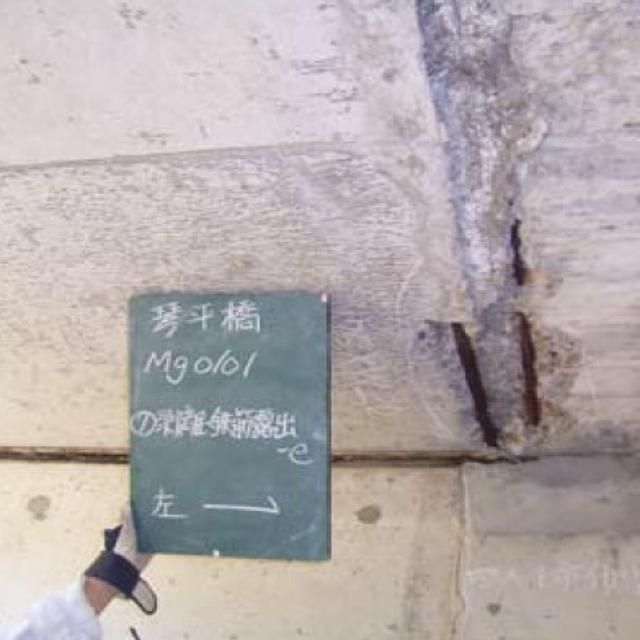spalling: (392, 23, 588, 480)
